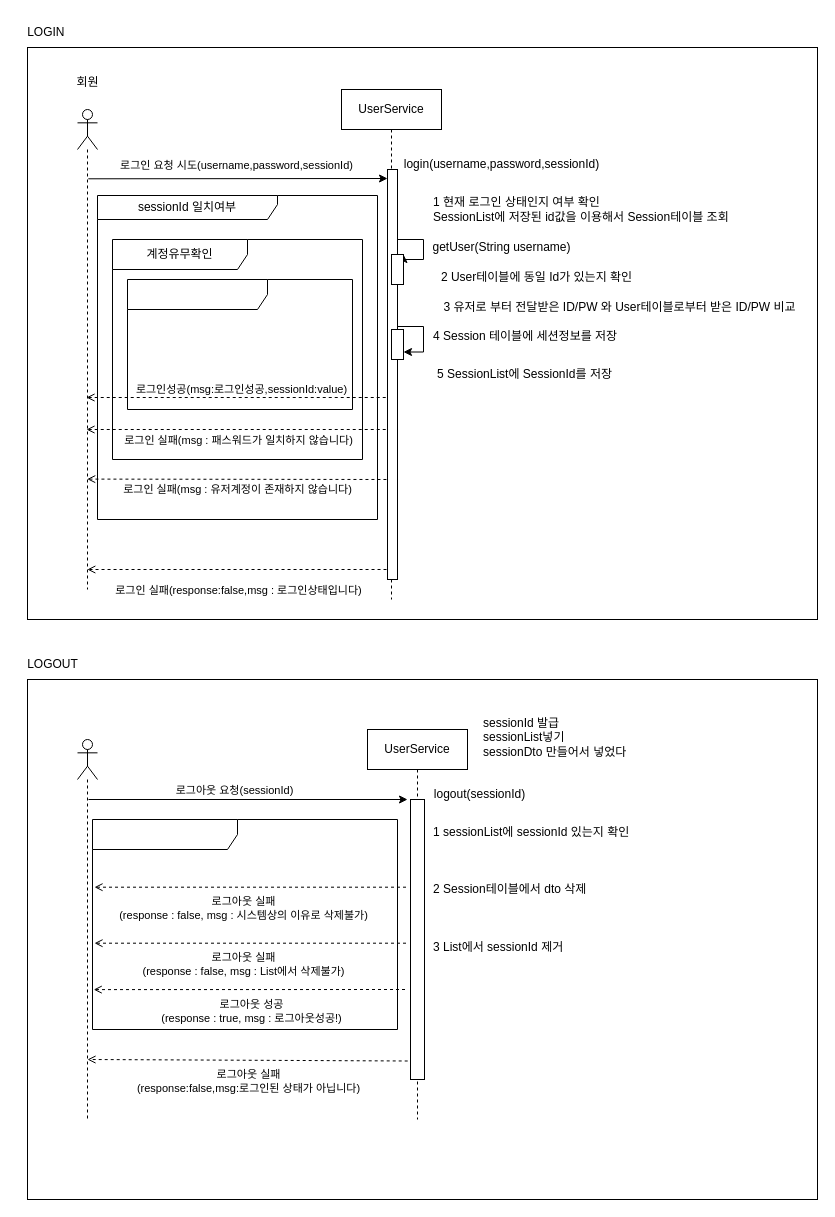
This 835x1217 diagram has some shape labels left out. The shapes that lost their labels are listed below. From the top down, each one's centre as x and y in pixels, then its label:
At pixel 239 344: "패스워드 일치여부 확인".
At pixel 245 924: "SessionList에 id값유뮤".
